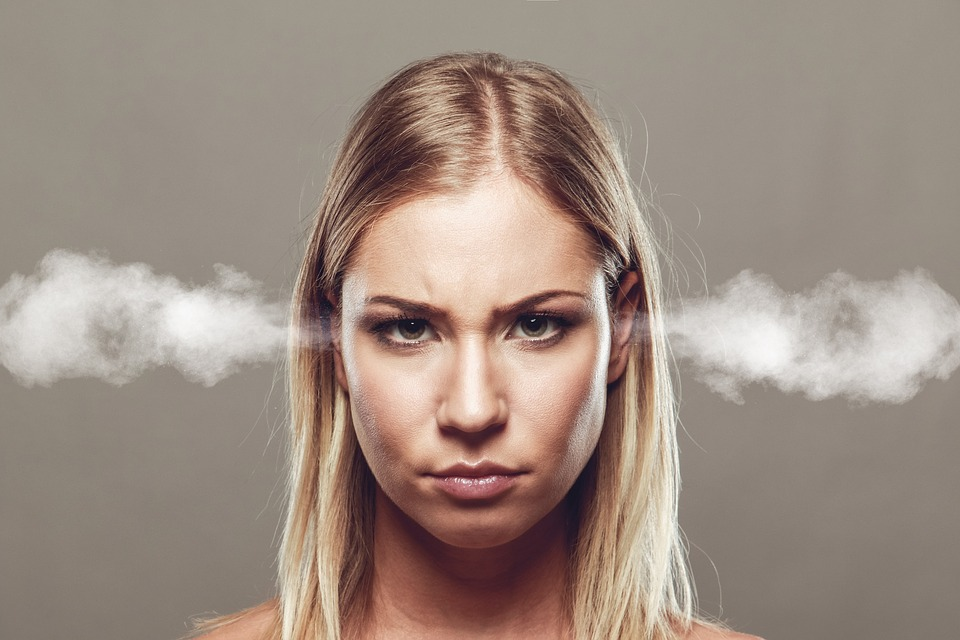angry: (358, 256, 586, 552)
